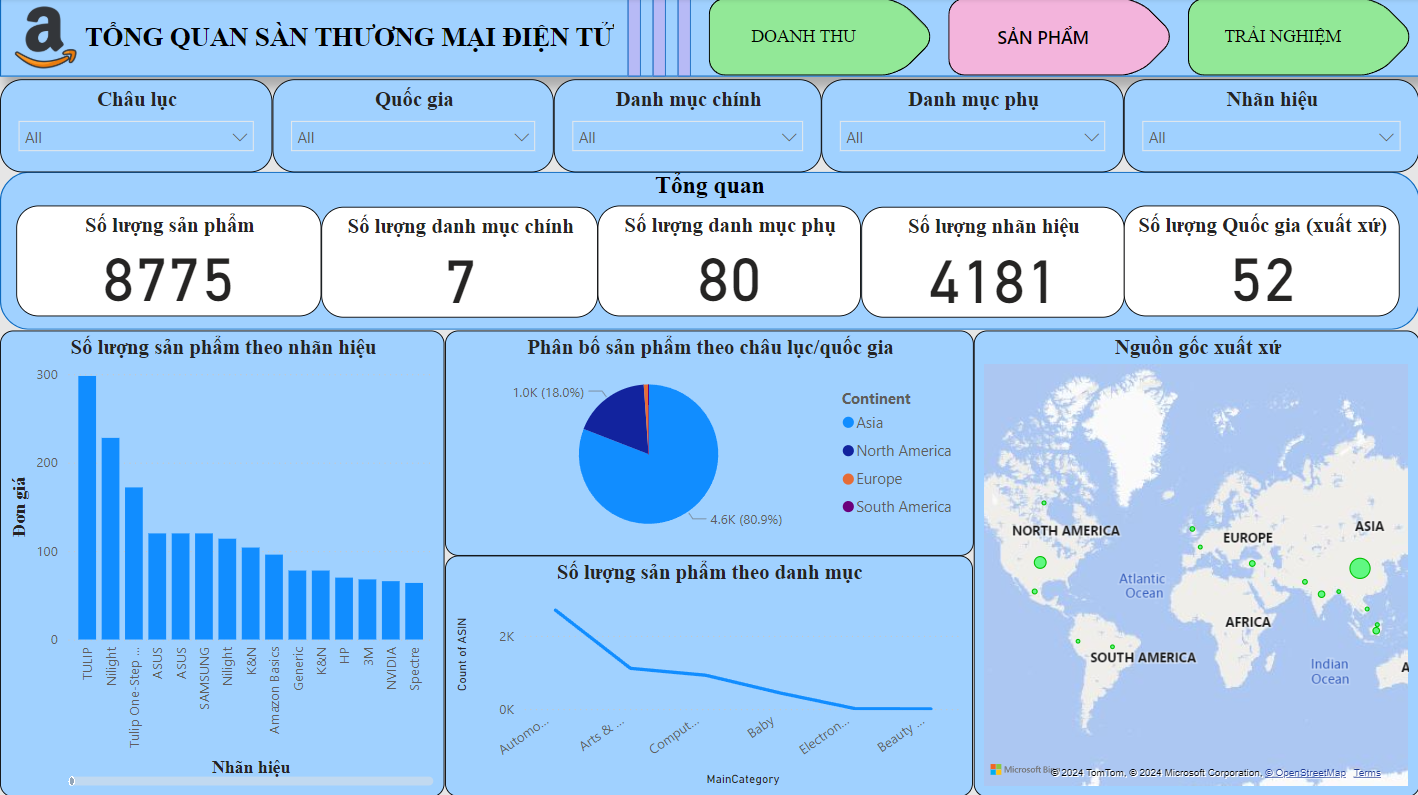

This screenshot's page, from the dashboard's own definition file:
{"tool":"powerbi","page":{"name":"SẢN PHẨM","canvas":[1280,720],"ordinal":1},"visuals":[{"type":"shape","box":[0,156.2,1280,142.5],"z":0},{"type":"shape","box":[0,0,1280.3,70.9],"z":1000},{"type":"image","box":[0,0,82.3,71.4],"z":2000},{"type":"slicer","title":"Danh mục chính","fields":{"Values":["staging dim_category.MainCategory"]},"box":[499.5,72.7,241.5,83.7],"z":3000},{"type":"slicer","title":"Danh mục phụ","fields":{"Values":["staging dim_category.SubCategory"]},"box":[741,72.7,273.1,83.7],"z":4000},{"type":"slicer","title":"Quốc gia","fields":{"Values":["staging dim_geolocation.CountryofOrigin"]},"box":[245.6,72.7,253.9,83.7],"z":5000},{"type":"card","title":"Số lượng danh mục chính","fields":{"Values":["Count(staging dim_category.MainCategory)"]},"box":[289.5,188,249.7,100.2],"z":6000},{"type":"card","title":"Số lượng danh mục phụ","fields":{"Values":["Count(staging dim_category.SubCategory)"]},"box":[538.8,187.5,237.5,100],"z":7000},{"type":"card","title":"Số lượng nhãn hiệu","fields":{"Values":["Count(staging dim_brand.Brand)"]},"box":[776.7,188,237.4,100.2],"z":8000},{"type":"card","title":"Số lượng sản phẩm","fields":{"Values":["CountNonNull(staging fact_product.ASIN)"]},"box":[15,187.5,275,100],"z":9000},{"type":"card","title":"Số lượng Quốc gia (xuất xứ)","fields":{"Values":["Count(staging fact_product.locationID)"]},"box":[1013.8,187.5,248.8,100],"z":10000},{"type":"slicer","title":"Nhãn hiệu","fields":{"Values":["staging dim_brand.Brand"]},"box":[1013.8,72.7,266.2,83.7],"z":11000},{"type":"lineStackedColumnComboChart","title":"Số lượng sản phẩm theo nhãn hiệu","fields":{"Y":["CountNonNull(staging fact_product.ASIN)"],"Category":["staging dim_brand.Brand"]},"box":[0,299.6,401.1,420.7],"z":12000},{"type":"lineChart","title":"Số lượng sản phẩm theo danh mục","fields":{"Y":["CountNonNull(staging fact_product.ASIN)"],"Category":["staging dim_category.MainCategory"]},"box":[401.1,502.6,475.7,217.7],"z":13000},{"type":"pieChart","title":"Phân bố sản phẩm theo châu lục/quốc gia","fields":{"Category":["staging dim_geolocation.Continent","staging dim_geolocation.CountryofOrigin"],"Y":["CountNonNull(staging fact_product.ASIN)"]},"box":[401.1,299.6,476.9,203],"z":15000},{"type":"map","title":"Nguồn gốc xuất xứ","fields":{"Size":["CountNonNull(staging fact_product.ASIN)"],"Category":["staging dim_geolocation.CountryofOrigin"]},"box":[878,299.6,402.3,420.7],"z":16000},{"type":"shape","box":[566.2,0,12.2,70.9],"z":17000},{"type":"slicer","title":"Châu lục","fields":{"Values":["staging dim_geolocation.Continent"]},"box":[0,72.7,245.6,83.7],"z":18000},{"type":"shape","box":[611.4,0,12.2,70.9],"z":19000},{"type":"shape","box":[588.2,0,12.2,70.9],"z":20000},{"type":"pageNavigator","box":[639.2,0,640.8,70.9],"z":21000}]}

Visuals, with their boxes in screenshot pixels (x1, y1, x2, y2), scaled from the page's 1280x720 canvas onto the 1418x795 screenshot:
shape: {"left": 0, "top": 172, "right": 1417, "bottom": 330}
shape: {"left": 0, "top": 0, "right": 1417, "bottom": 78}
image: {"left": 0, "top": 0, "right": 91, "bottom": 79}
"Danh mục chính" slicer: {"left": 553, "top": 80, "right": 821, "bottom": 173}
"Danh mục phụ" slicer: {"left": 821, "top": 80, "right": 1123, "bottom": 173}
"Quốc gia" slicer: {"left": 272, "top": 80, "right": 553, "bottom": 173}
"Số lượng danh mục chính" card: {"left": 321, "top": 208, "right": 597, "bottom": 318}
"Số lượng danh mục phụ" card: {"left": 597, "top": 207, "right": 860, "bottom": 317}
"Số lượng nhãn hiệu" card: {"left": 860, "top": 208, "right": 1123, "bottom": 318}
"Số lượng sản phẩm" card: {"left": 17, "top": 207, "right": 321, "bottom": 317}
"Số lượng Quốc gia (xuất xứ)" card: {"left": 1123, "top": 207, "right": 1399, "bottom": 317}
"Nhãn hiệu" slicer: {"left": 1123, "top": 80, "right": 1417, "bottom": 173}
"Số lượng sản phẩm theo nhãn hiệu" lineStackedColumnComboChart: {"left": 0, "top": 331, "right": 444, "bottom": 794}
"Số lượng sản phẩm theo danh mục" lineChart: {"left": 444, "top": 555, "right": 971, "bottom": 794}
"Phân bố sản phẩm theo châu lục/quốc gia" pieChart: {"left": 444, "top": 331, "right": 973, "bottom": 555}
"Nguồn gốc xuất xứ" map: {"left": 973, "top": 331, "right": 1417, "bottom": 794}
shape: {"left": 627, "top": 0, "right": 641, "bottom": 78}
"Châu lục" slicer: {"left": 0, "top": 80, "right": 272, "bottom": 173}
shape: {"left": 677, "top": 0, "right": 691, "bottom": 78}
shape: {"left": 652, "top": 0, "right": 665, "bottom": 78}
pageNavigator: {"left": 708, "top": 0, "right": 1417, "bottom": 78}
